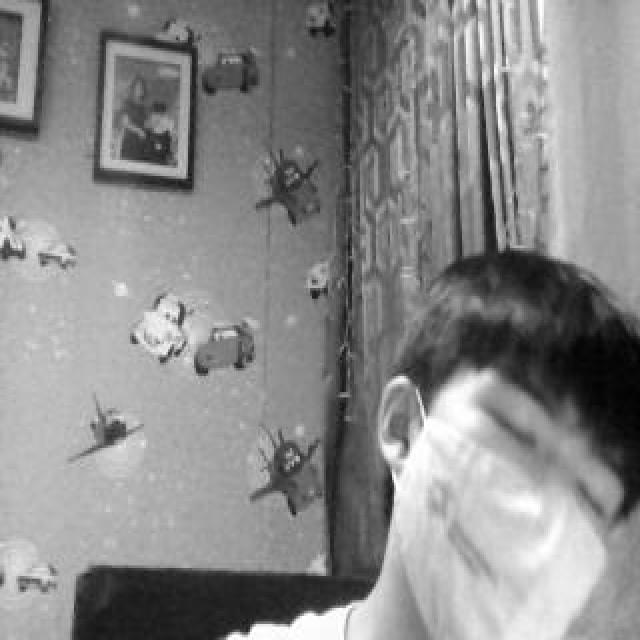Focused: (416, 334, 627, 630)
